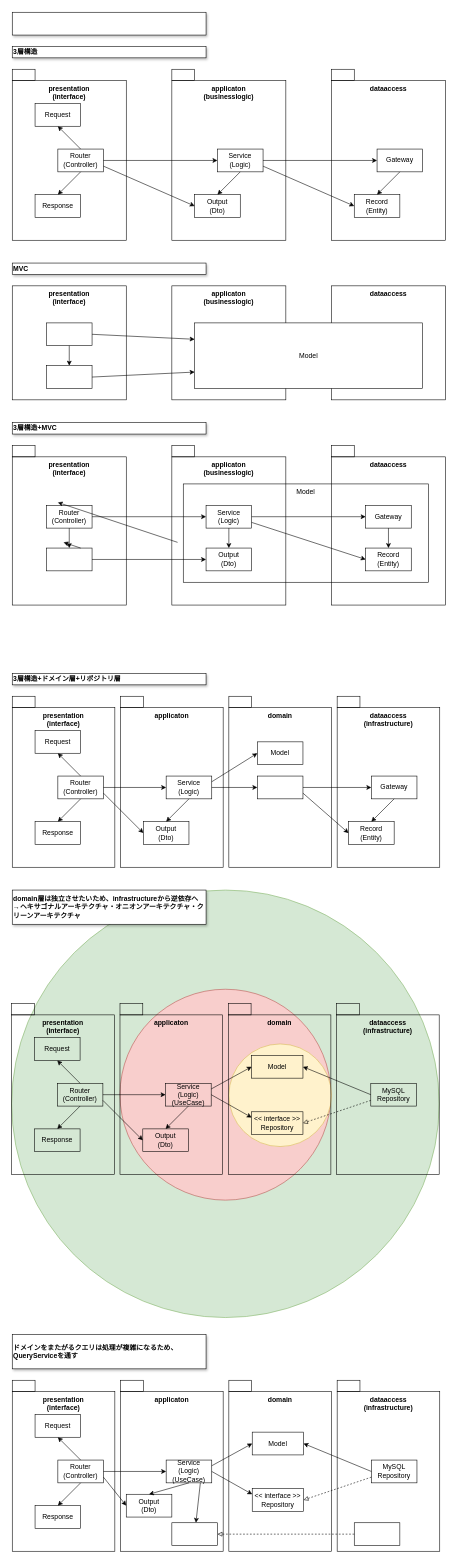
Image size: 455x1561. Some labels were removed from this diagram. The shapes that lost their labels are listed below. From the top down, each one's centre as x and y in pixels, then its label:
the point at 109,24: アーキテクチャ
the point at 69,334: Controller
the point at 69,376: View
the point at 69,559: Response (View)
the point at 280,787: Repository
the point at 194,1534: <<interface>> QueryService
the point at 377,1534: MySQL QueryService
